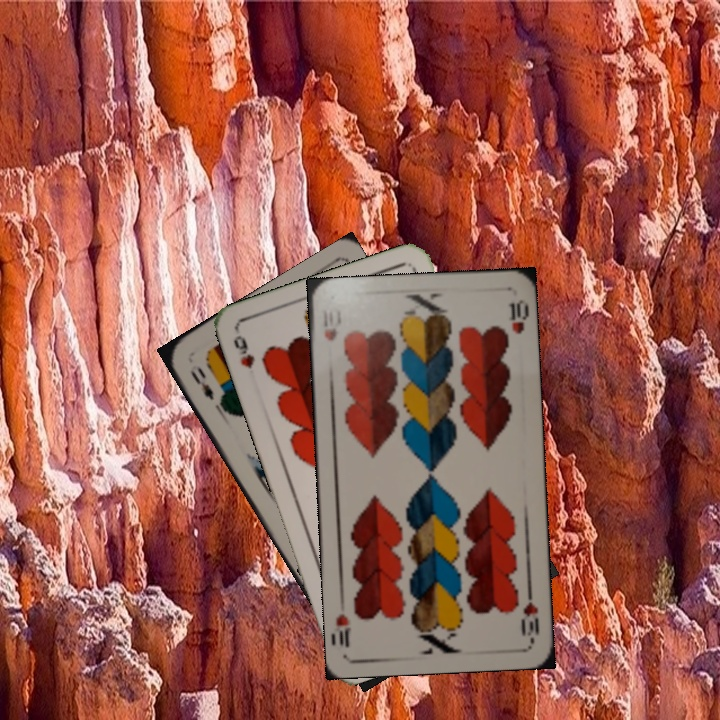EO: (185, 362, 217, 403)
H10: (517, 583, 542, 642), (319, 306, 340, 343)
H9: (229, 331, 258, 371)
